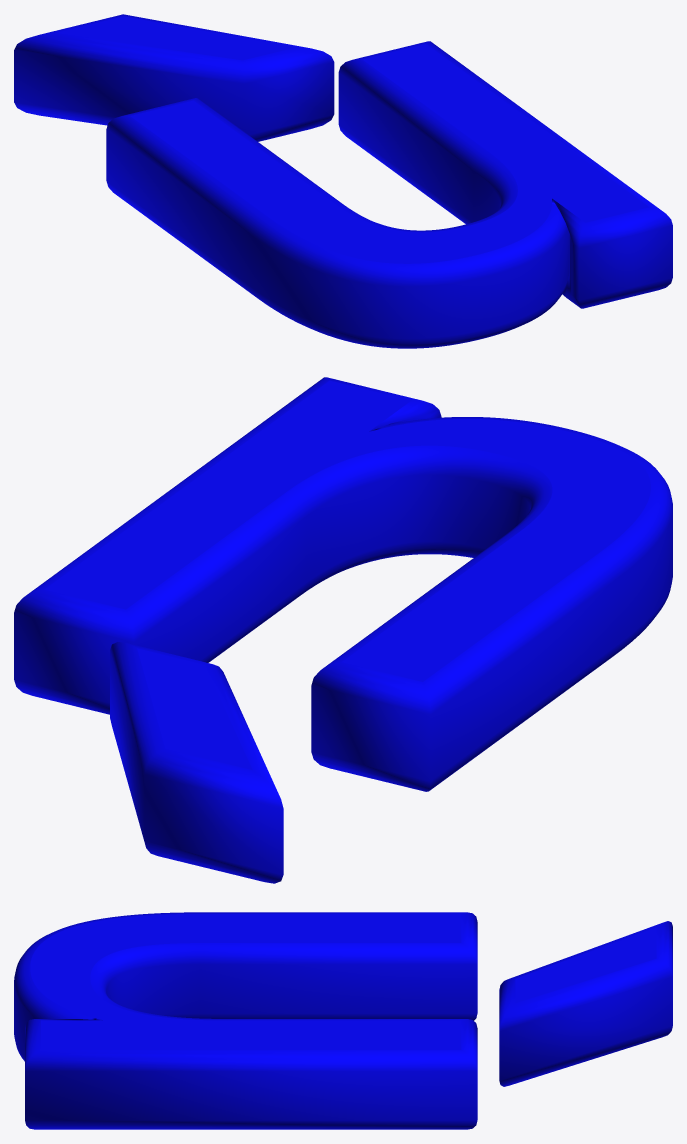
3 renders of one model, top to bottom at view 1: azimuth 30°, elevation 25°; view 2: azimuth 150°, elevation 25°; view 3: azimuth 270°, elevation 25°, orthographic. The views are drawn at different scales.
Visible parts, largest first — view 1: 249; view 2: 249; view 3: 249.
Boxes of the visible parts, <box> form: 249: <box>14,14,672,348</box>; 249: <box>14,377,672,883</box>; 249: <box>14,912,672,1129</box>.
Bounding box in the file's own units: 0.6559 × 0.16 × 1.22.
